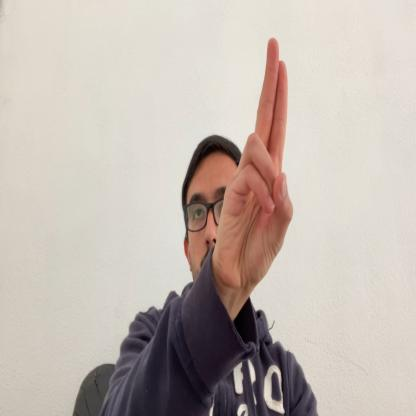U: (218, 36, 294, 295)
